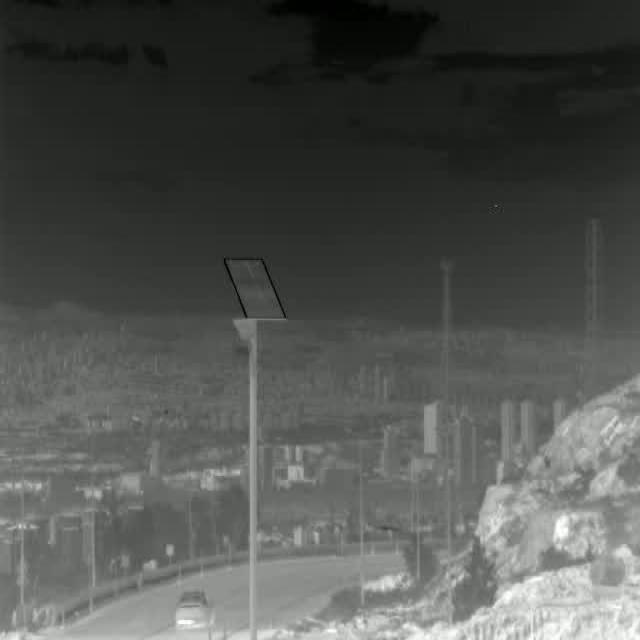Car: (173, 588, 216, 635)
